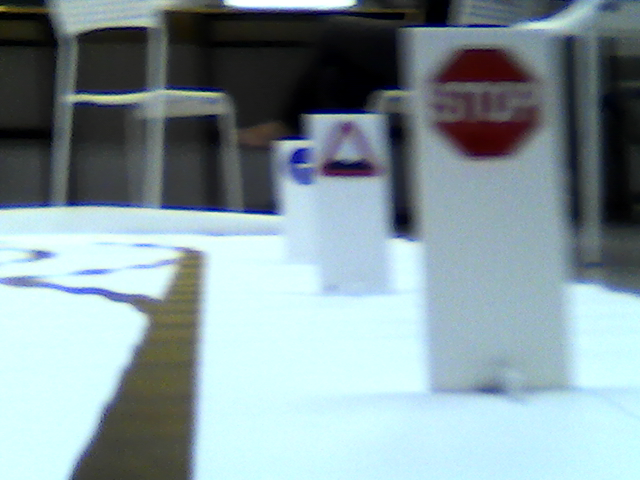Stop: (426, 45, 541, 162)
